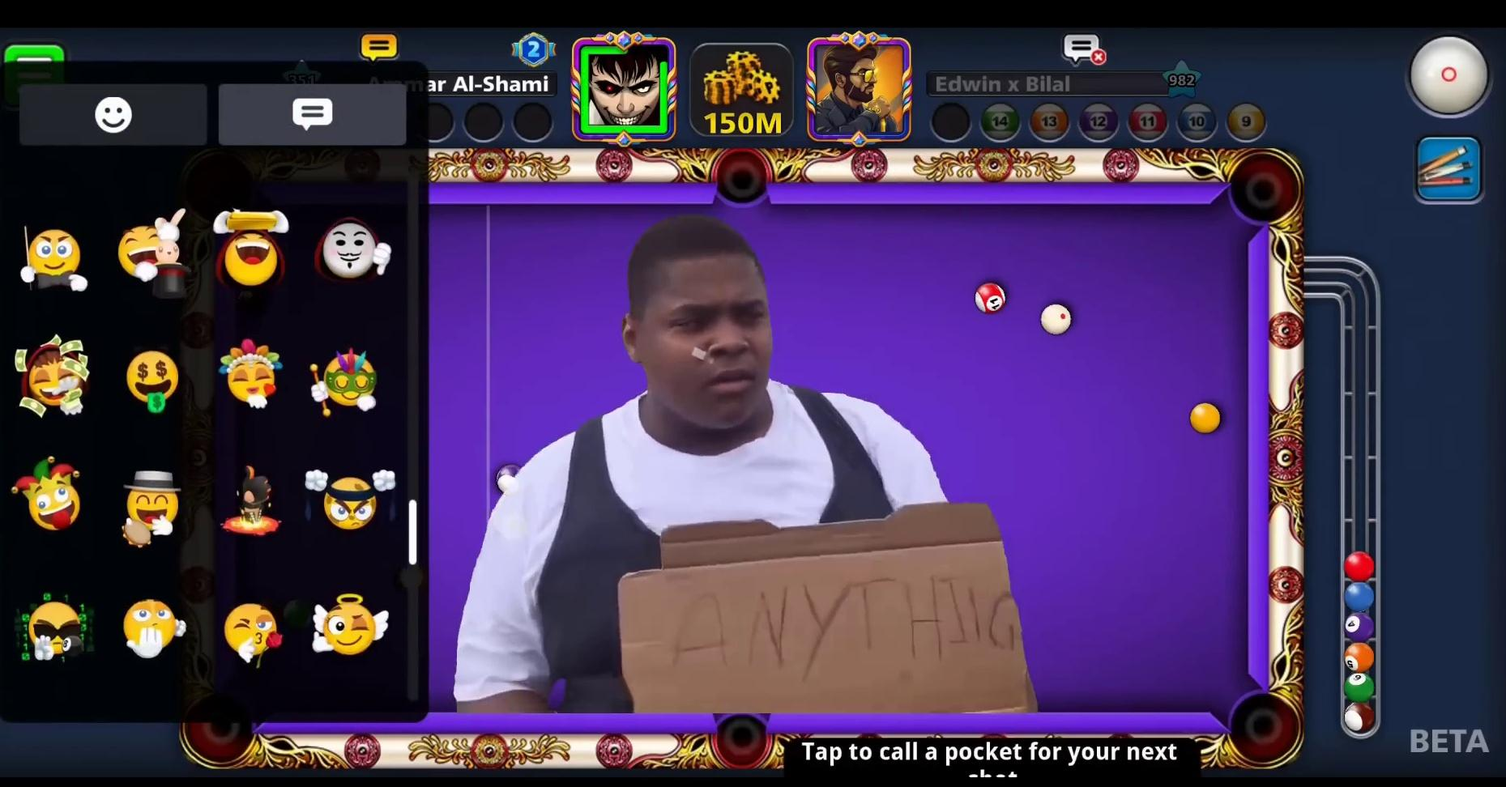Ball: (1185, 398, 1226, 436), (968, 280, 1009, 317)
Hole: (169, 681, 285, 777), (1220, 683, 1304, 774), (1221, 142, 1303, 235), (702, 142, 782, 218), (711, 712, 773, 772)
Play_Area: (429, 203, 1247, 711)
Spin: (1402, 26, 1504, 130)
White: (1036, 300, 1080, 337)
